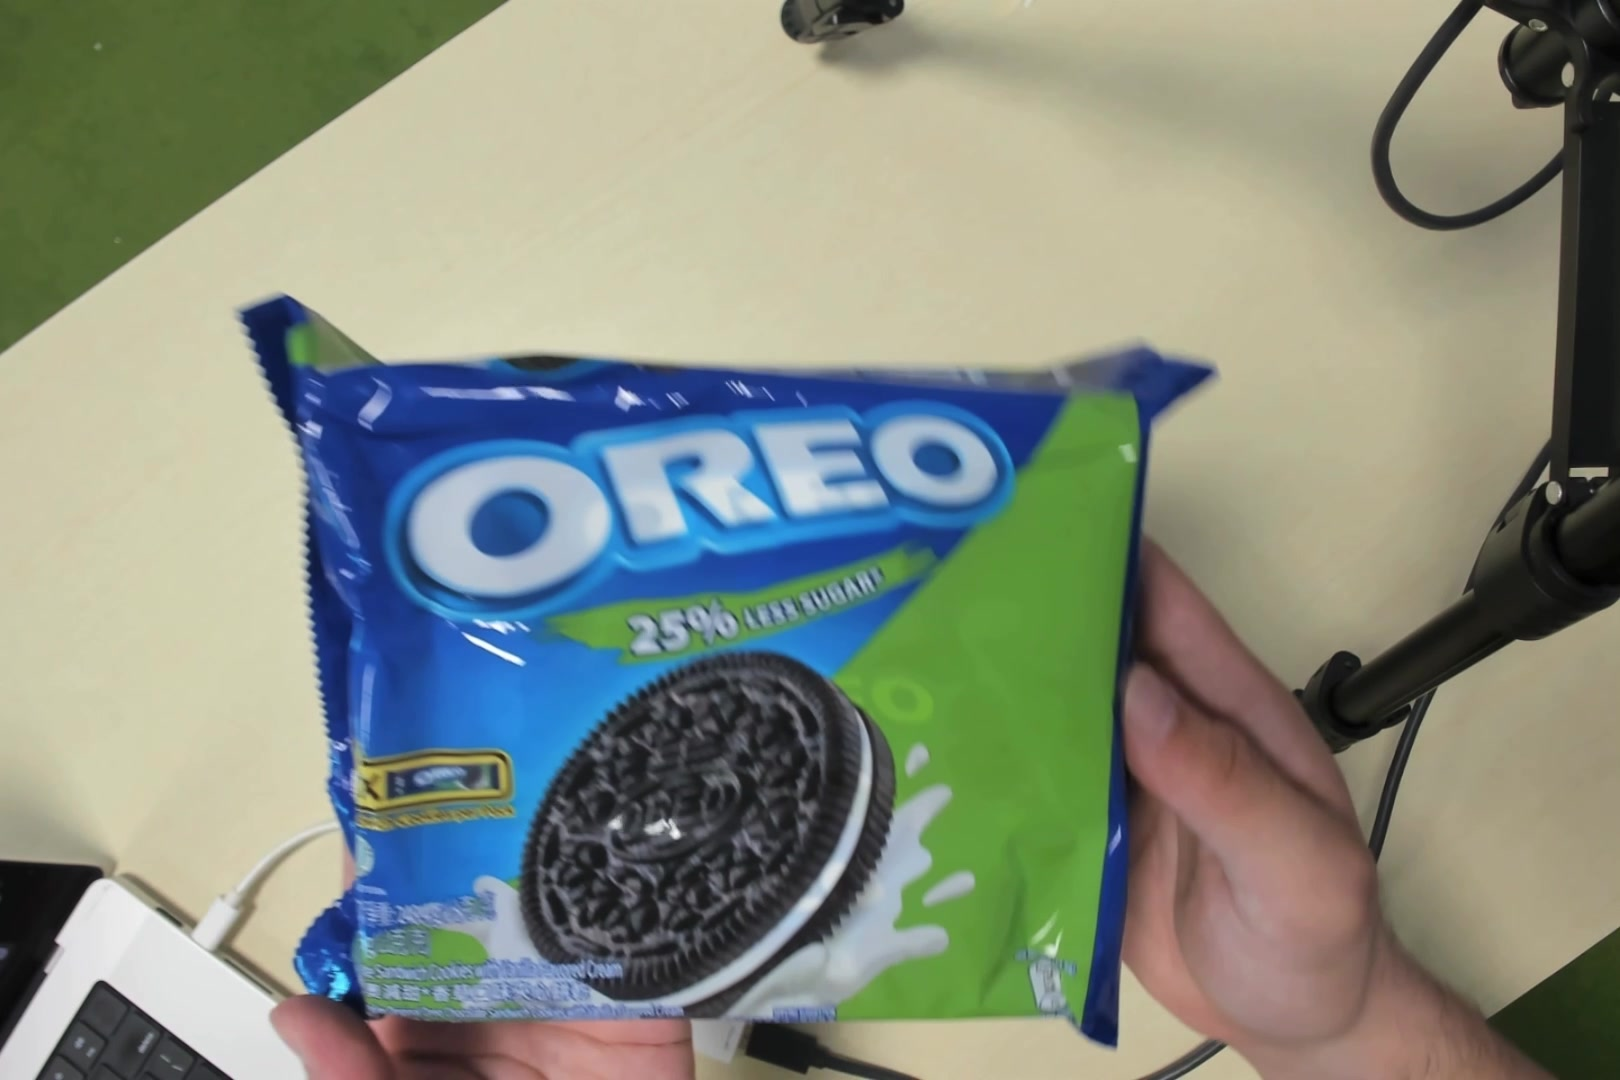SweetsChocolatesOthers_200-299g_Halal_NonHealthy: (333, 358, 1120, 1012)
